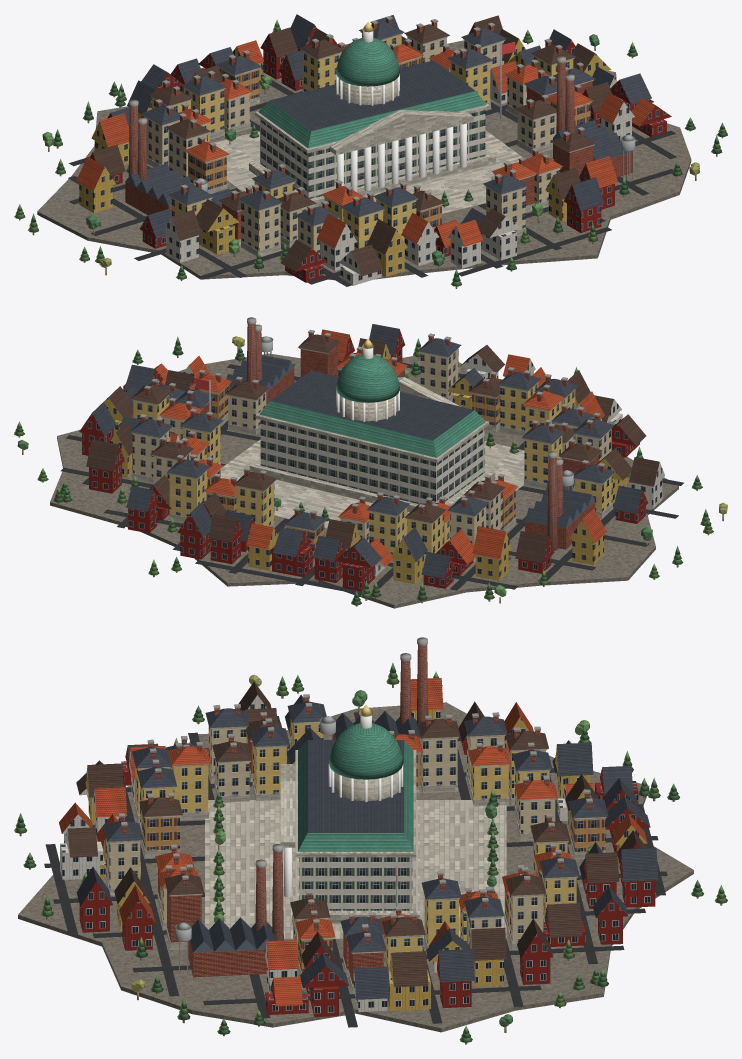
File: city_nordic_capital.glb
3 renders of one model, top to bottom at view 1: azimuth 30°, elevation 25°; view 2: azimuth 150°, elevation 25°; view 3: azimuth 270°, elevation 25°, orthographic. The views are drawn at different scales.
Visible parts, largest first — view 1: city_nordic_capital; view 2: city_nordic_capital; view 3: city_nordic_capital.
Boxes of the visible parts, <box> form: city_nordic_capital: <box>14,14,727,288</box>; city_nordic_capital: <box>14,317,727,608</box>; city_nordic_capital: <box>14,637,727,1044</box>.
Bounding box in the file's own units: 6.25 × 1.37 × 5.21.
Materials: 27 (17 with a texture image).
